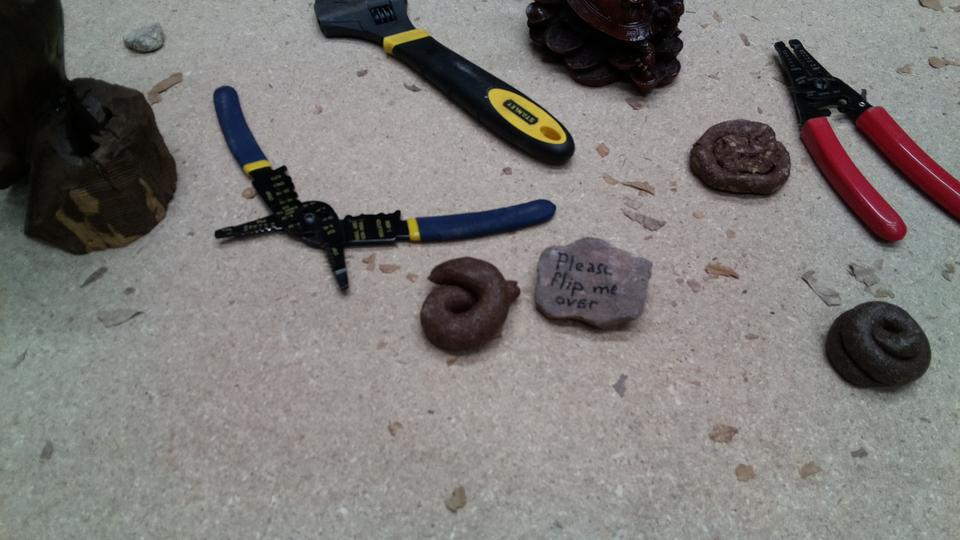poop: (819, 298, 934, 393), (416, 255, 523, 356), (686, 117, 794, 202)
